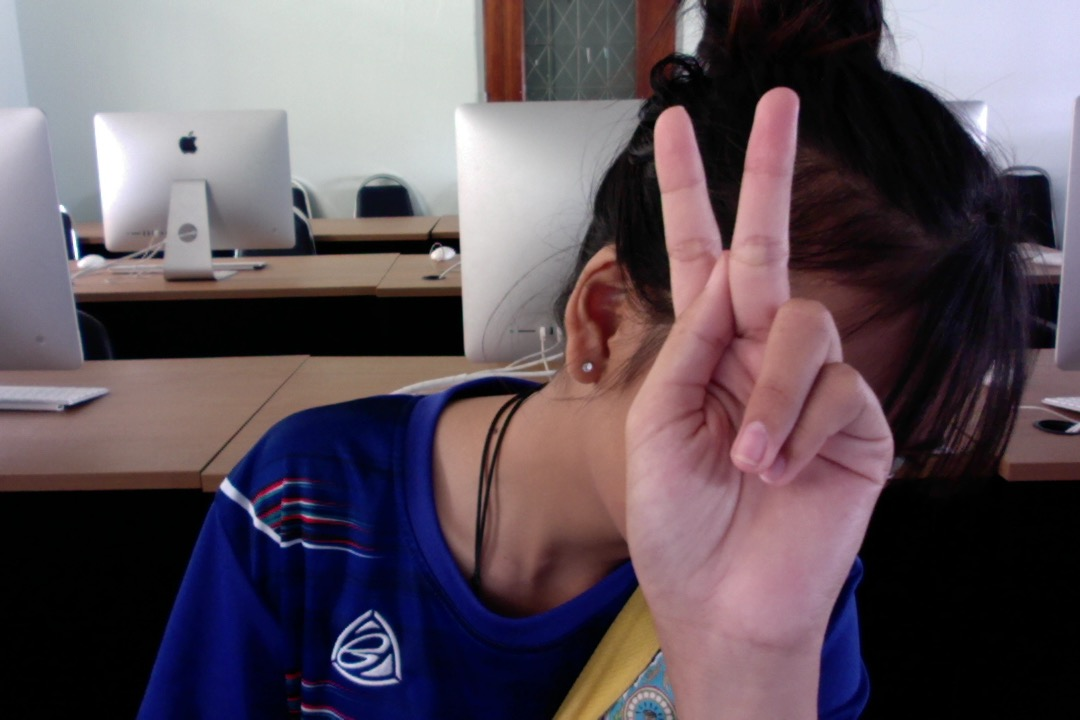ko: (608, 82, 898, 663)
